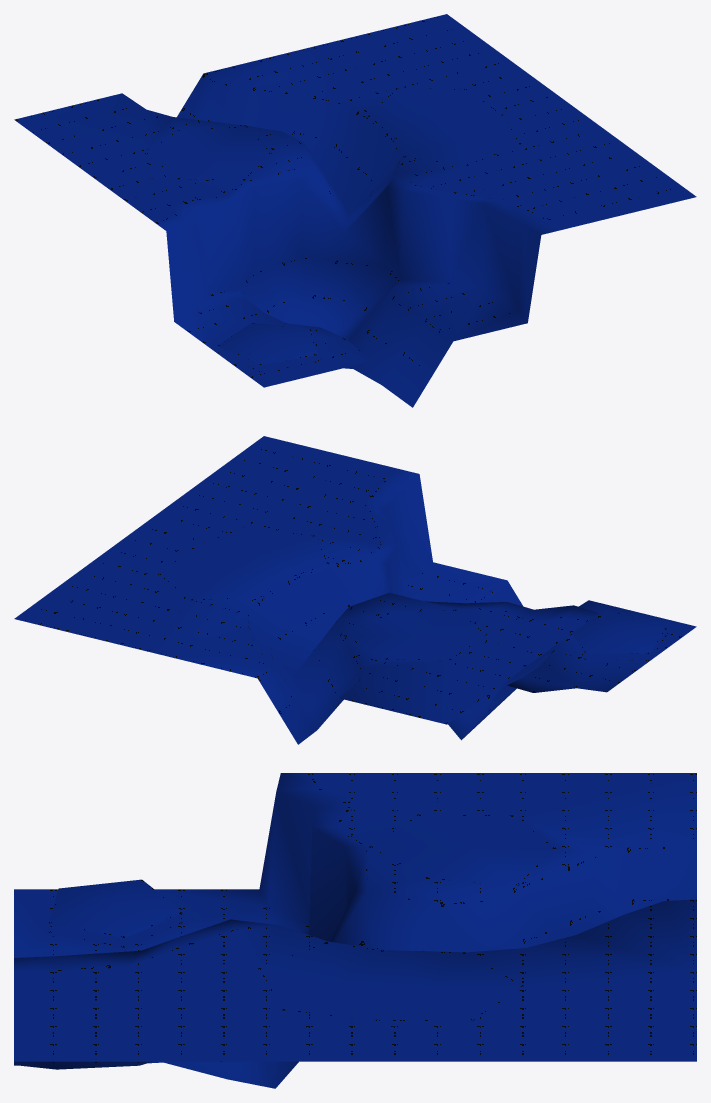
Rendered from GRD_S_C5_R1_2.fbx.
3 views of the same model, one above another, from view 1: azimuth 30°, elevation 25°; view 2: azimuth 150°, elevation 25°; view 3: azimuth 270°, elevation 25° (orthographic). The views are drawn at different scales.
Visible parts, largest first — view 1: material_00032000, material_00022000, material_C0052000, material_C0042000, material_C0012000, material_C0062000; view 2: material_00032000, material_C0052000, material_C0042000, material_00022000, material_C0012000, material_C0062000; view 3: material_00032000, material_C0042000, material_C0052000, material_00022000, material_C0012000, material_C0062000.
Boxes of the visible parts, box(x1,y1,x2,y2) form: material_00032000: box(14, 14, 696, 387); material_00022000: box(155, 164, 560, 322); material_C0052000: box(177, 73, 453, 407); material_C0042000: box(144, 87, 521, 180); material_C0012000: box(217, 323, 317, 365); material_C0062000: box(217, 349, 317, 372); material_00032000: box(14, 436, 696, 724); material_C0052000: box(247, 557, 553, 744); material_C0042000: box(157, 526, 487, 660); material_00022000: box(365, 469, 598, 622); material_C0012000: box(572, 612, 666, 653); material_C0062000: box(568, 634, 666, 660); material_00032000: box(14, 773, 696, 1069); material_C0042000: box(257, 813, 556, 1020); material_C0052000: box(14, 845, 696, 1088); material_00022000: box(14, 773, 367, 971); material_C0012000: box(48, 879, 183, 938); material_C0062000: box(48, 916, 183, 947).
Bounding box in the file's own units: 12800 × 4600 × 12800.
